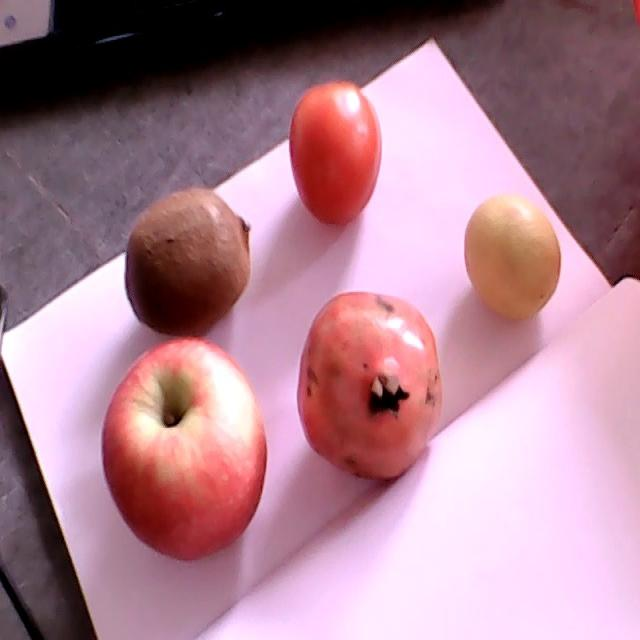apple: (102, 336, 267, 562)
kiwi: (125, 187, 250, 337)
lemon: (465, 196, 561, 318)
pomegranate: (297, 294, 445, 478)
tomato: (289, 79, 381, 224)
